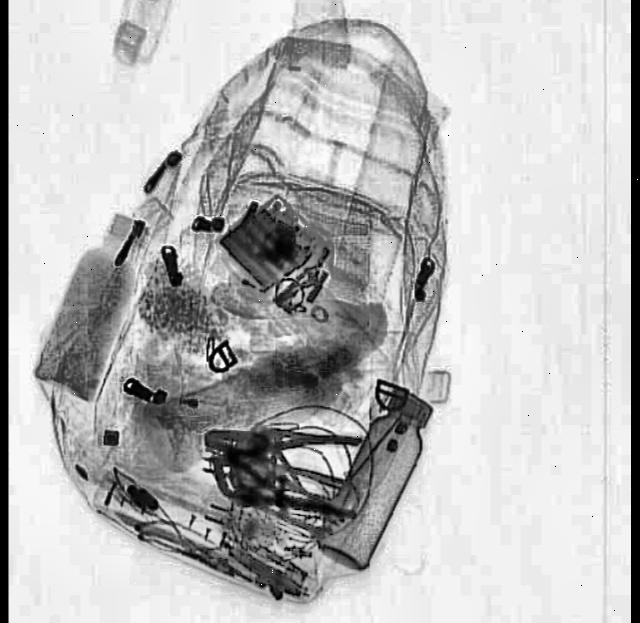Pliers: (198, 406, 362, 521), (204, 408, 366, 490)
